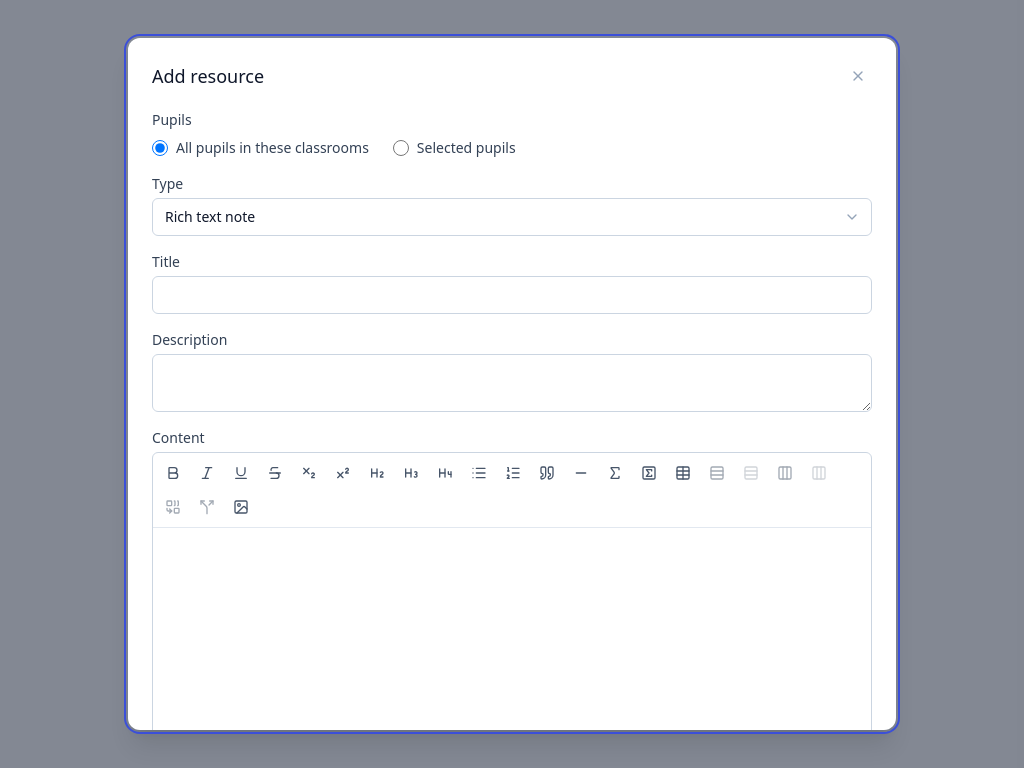
Scenario: ResourceEditorModal › opens the gallery modal (not a tab) when 'Choose from gallery' is clicked, with no tablist rendered
The image size is (1024, 768).
Select "PDF document" in the dropdown labelled "Type" at (512, 217), box [152,198,872,236]
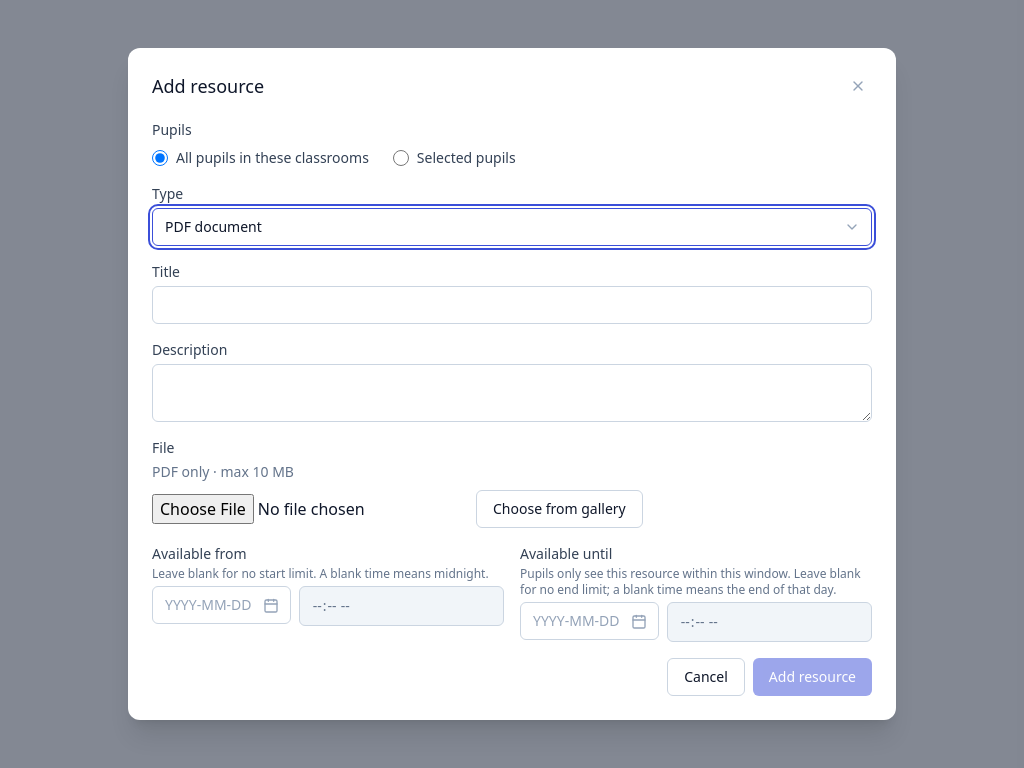
Click the button "Choose from gallery" at (559, 509), box [476,490,643,528]
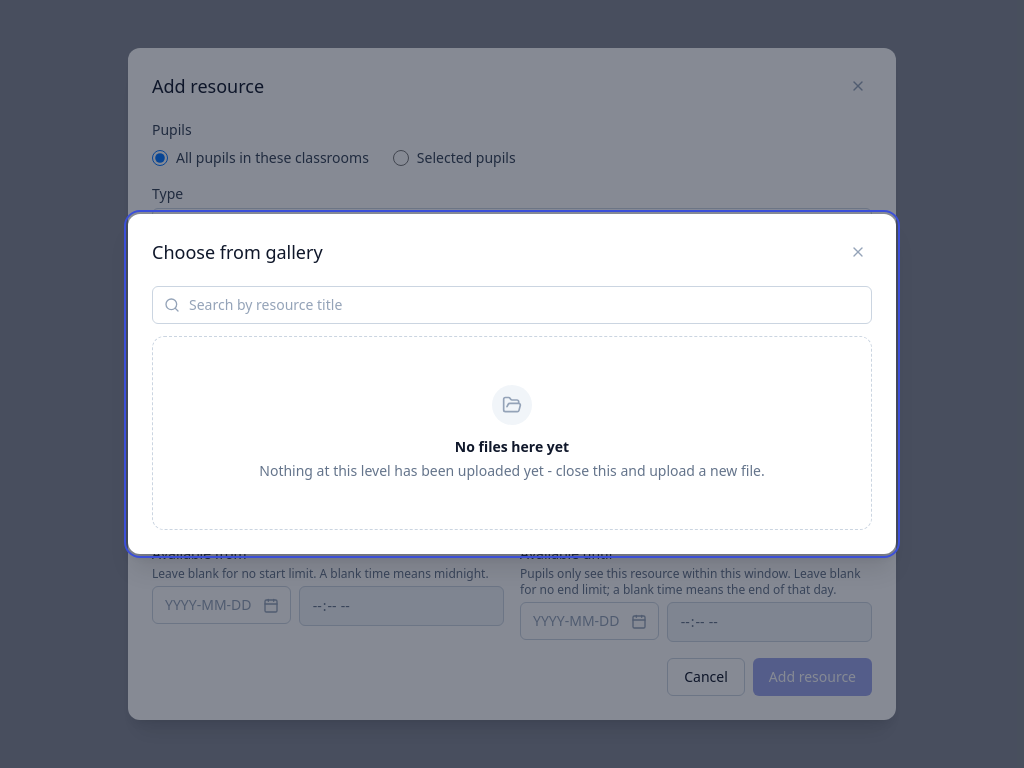
Now the dialog "Choose from gallery" is shown, box [128,214,896,554]
